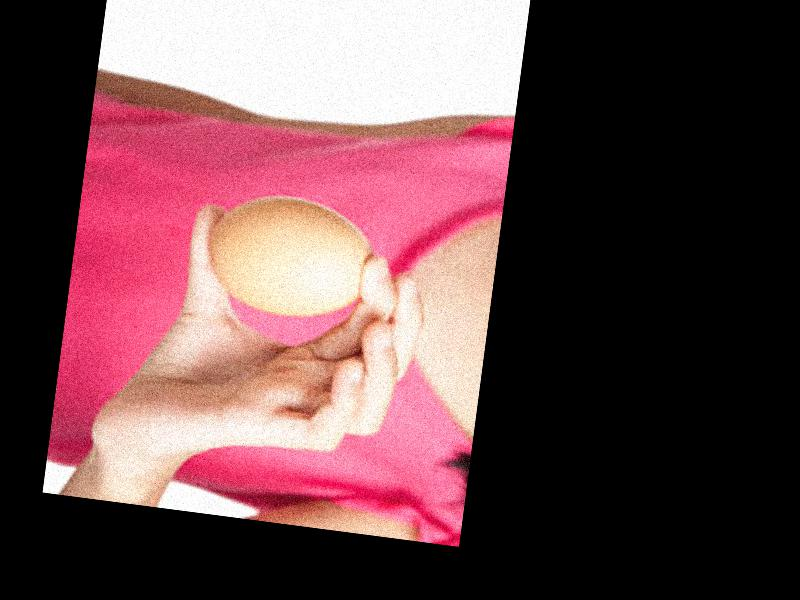Eggs: (203, 189, 382, 325)
